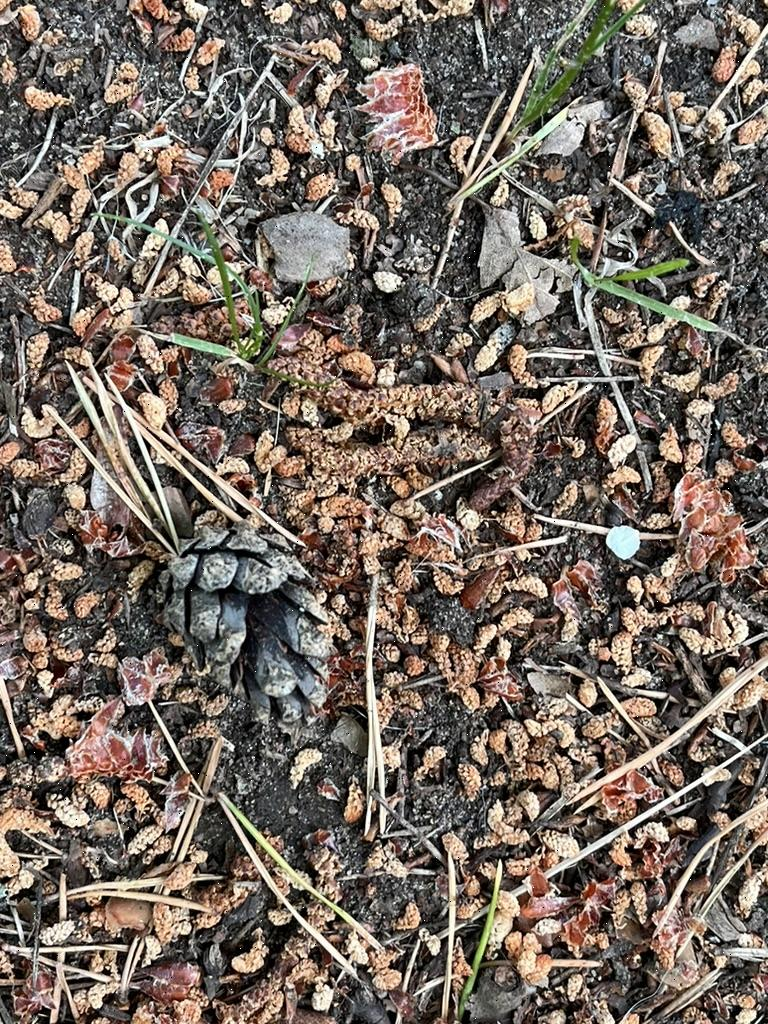pine: (154, 520, 341, 738)
